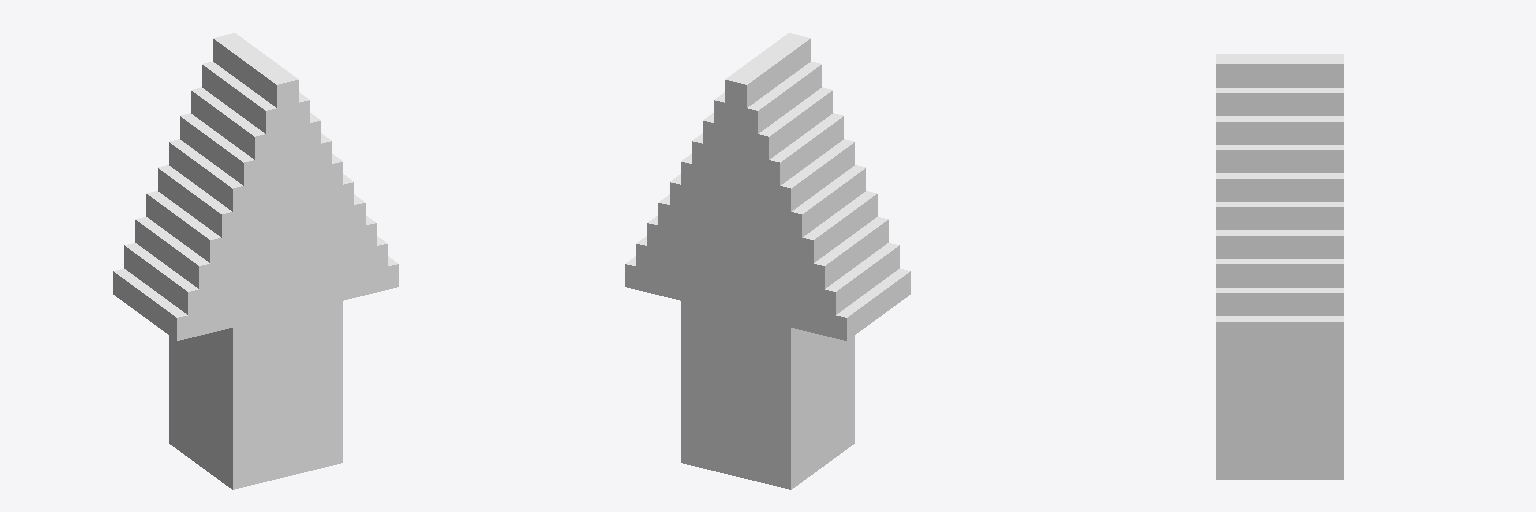
The model's file is bigarrow.obj.
The picture shows the model from 3 angles: view 1: azimuth 30°, elevation 25°; view 2: azimuth 150°, elevation 25°; view 3: azimuth 270°, elevation 25°; orthographic projection.
Visible parts, largest first — view 1: bigarrow; view 2: bigarrow; view 3: bigarrow.
Part boxes in pixels (left/top/right/bottom): bigarrow: left=113, top=33, right=398, bottom=489; bigarrow: left=625, top=33, right=910, bottom=489; bigarrow: left=1216, top=54, right=1343, bottom=479.
Size of the model in its own units: 20 by 34 by 10.